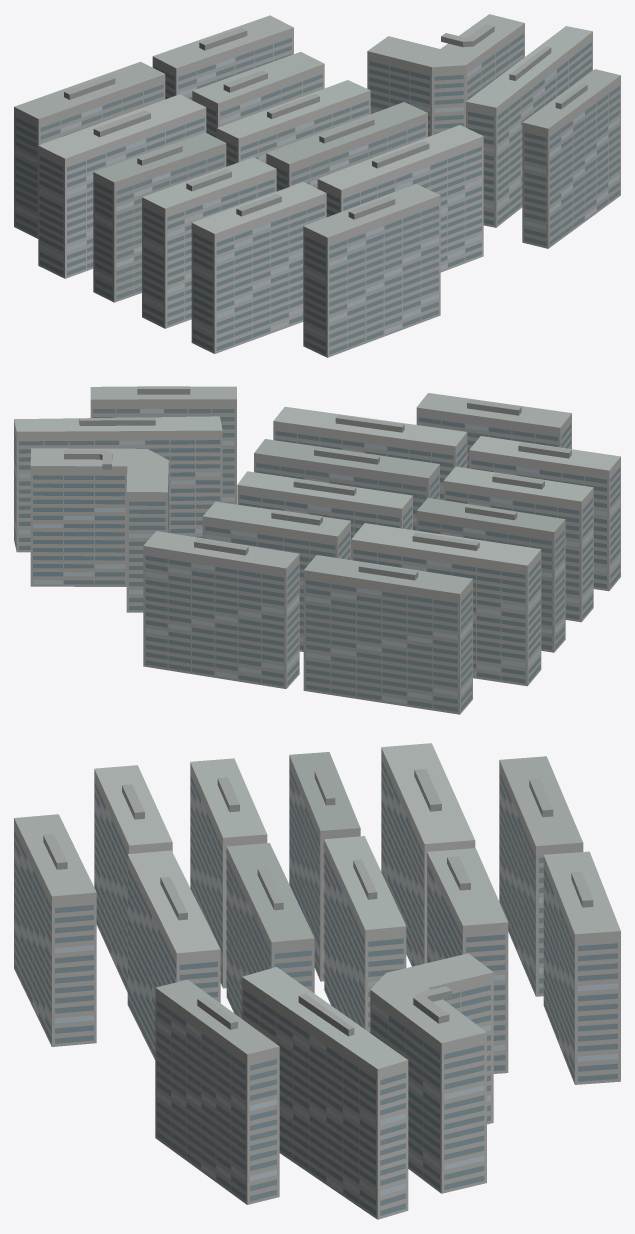
File: apt-a15809702.glb
The picture shows the model from 3 angles, top to bottom: view 1: azimuth 30°, elevation 25°; view 2: azimuth 150°, elevation 25°; view 3: azimuth 270°, elevation 25°; orthographic projection. The views are drawn at different scales.
Visible parts, largest first — view 1: apt-a15809702; view 2: apt-a15809702; view 3: apt-a15809702.
Boxes of the visible parts, left/top/right/bottom form: apt-a15809702: left=14, top=14, right=620, bottom=357; apt-a15809702: left=14, top=386, right=620, bottom=714; apt-a15809702: left=14, top=743, right=620, bottom=1219.
Bounding box in the file's own units: 212 × 47.81 × 167.
